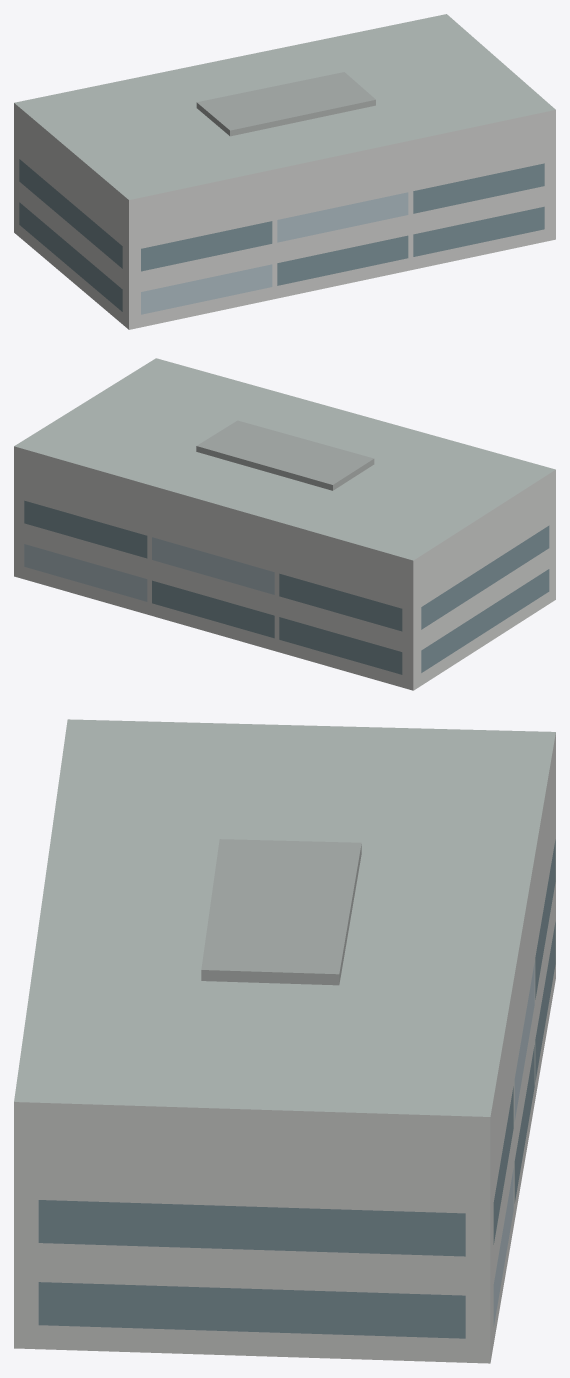
File: named-apt-ebde52f2-394f-4259-9d79-8d3e62546789.glb
3 views of the same model, one above another, from view 1: azimuth 30°, elevation 25°; view 2: azimuth 150°, elevation 25°; view 3: azimuth 270°, elevation 25° (orthographic). The views are drawn at different scales.
Parts seen in each view (by area): view 1: named-apt-ebde52f2-394f-4259-9d79-8d3e62546789; view 2: named-apt-ebde52f2-394f-4259-9d79-8d3e62546789; view 3: named-apt-ebde52f2-394f-4259-9d79-8d3e62546789.
Part boxes in pixels (left/top/right/bottom): named-apt-ebde52f2-394f-4259-9d79-8d3e62546789: left=14, top=14, right=555, bottom=329; named-apt-ebde52f2-394f-4259-9d79-8d3e62546789: left=14, top=358, right=555, bottom=690; named-apt-ebde52f2-394f-4259-9d79-8d3e62546789: left=14, top=719, right=555, bottom=1363.
Bounding box in the file's own units: 31.65 × 9.56 × 18.23.
